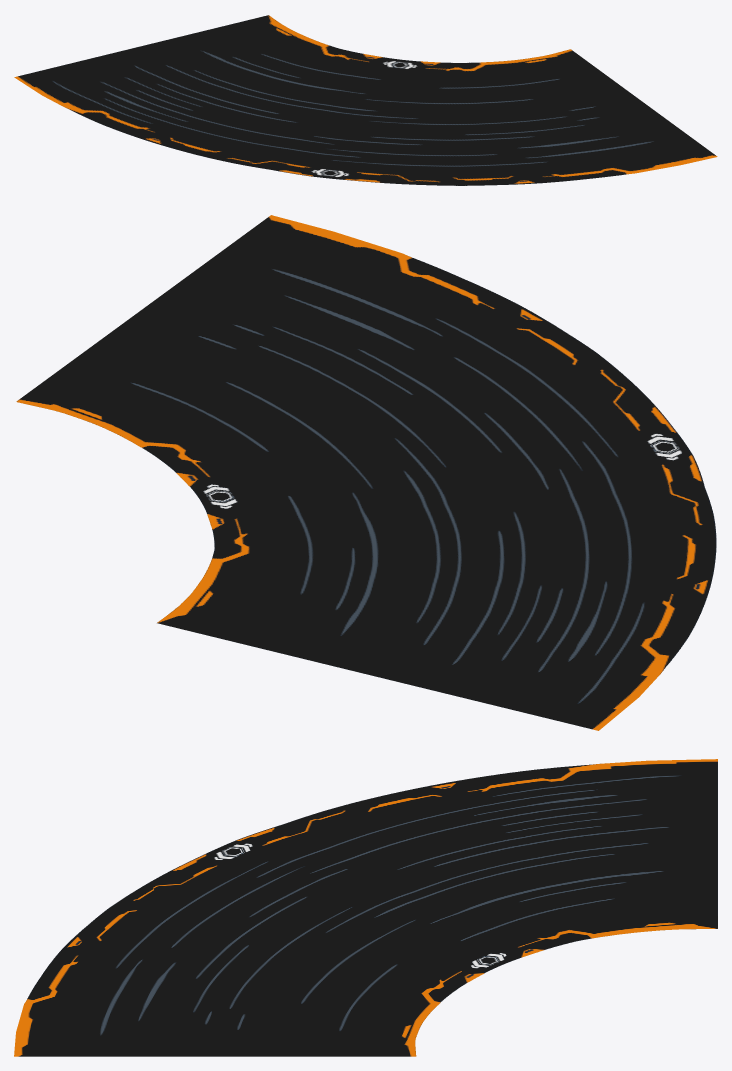
The model's file is TrackTurn.fbx.
3 renders of one model, top to bottom at view 1: azimuth 30°, elevation 25°; view 2: azimuth 150°, elevation 25°; view 3: azimuth 270°, elevation 25°, orthographic. The views are drawn at different scales.
Parts seen in each view (by area): view 1: TurnFlat; view 2: TurnFlat; view 3: TurnFlat.
Boxes of the visible parts, <box> form: TurnFlat: <box>14,15,717,185</box>; TurnFlat: <box>16,215,716,730</box>; TurnFlat: <box>14,759,717,1056</box>.
Bounding box in the file's own units: 141 × 0 × 140.
